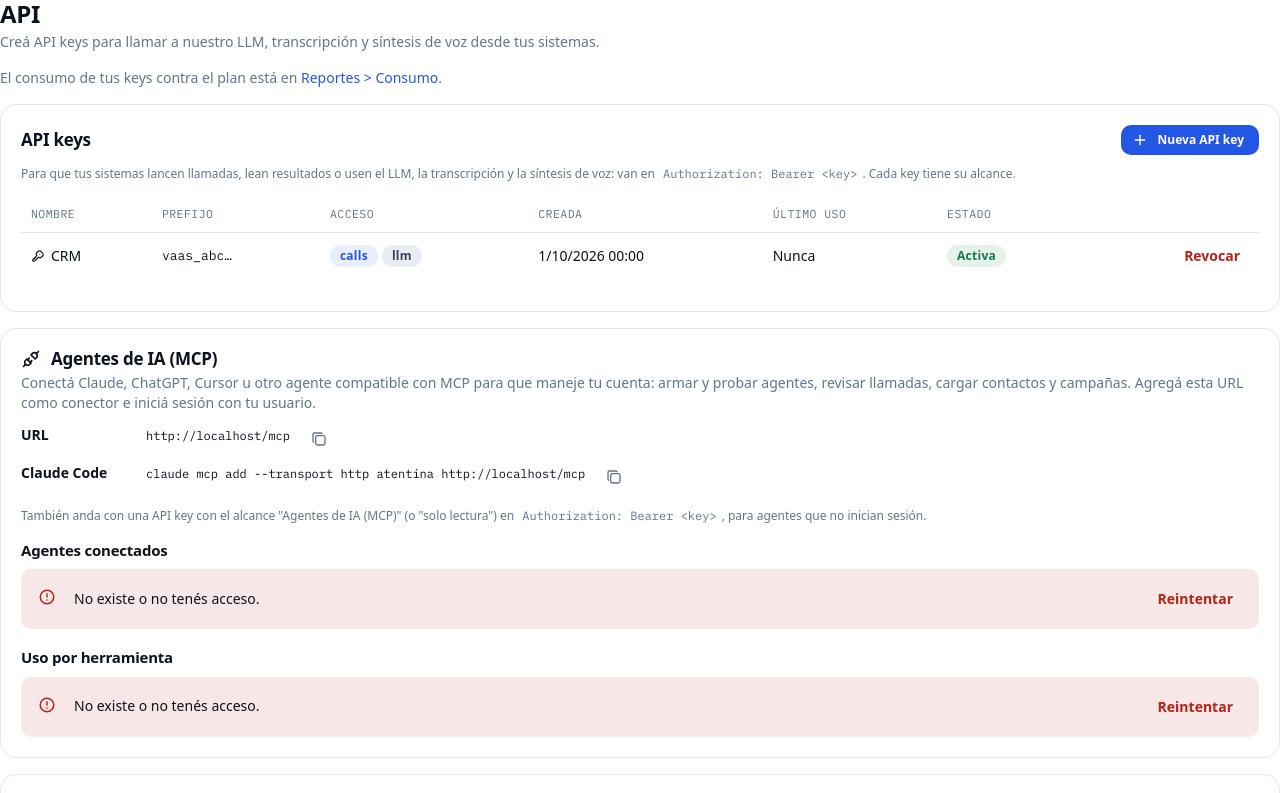
DevelopersPage › no deja crear una key sin ningún alcance
Step 1. Click the button "Nueva API key" → (1190, 140), box [1121, 125, 1259, 155]
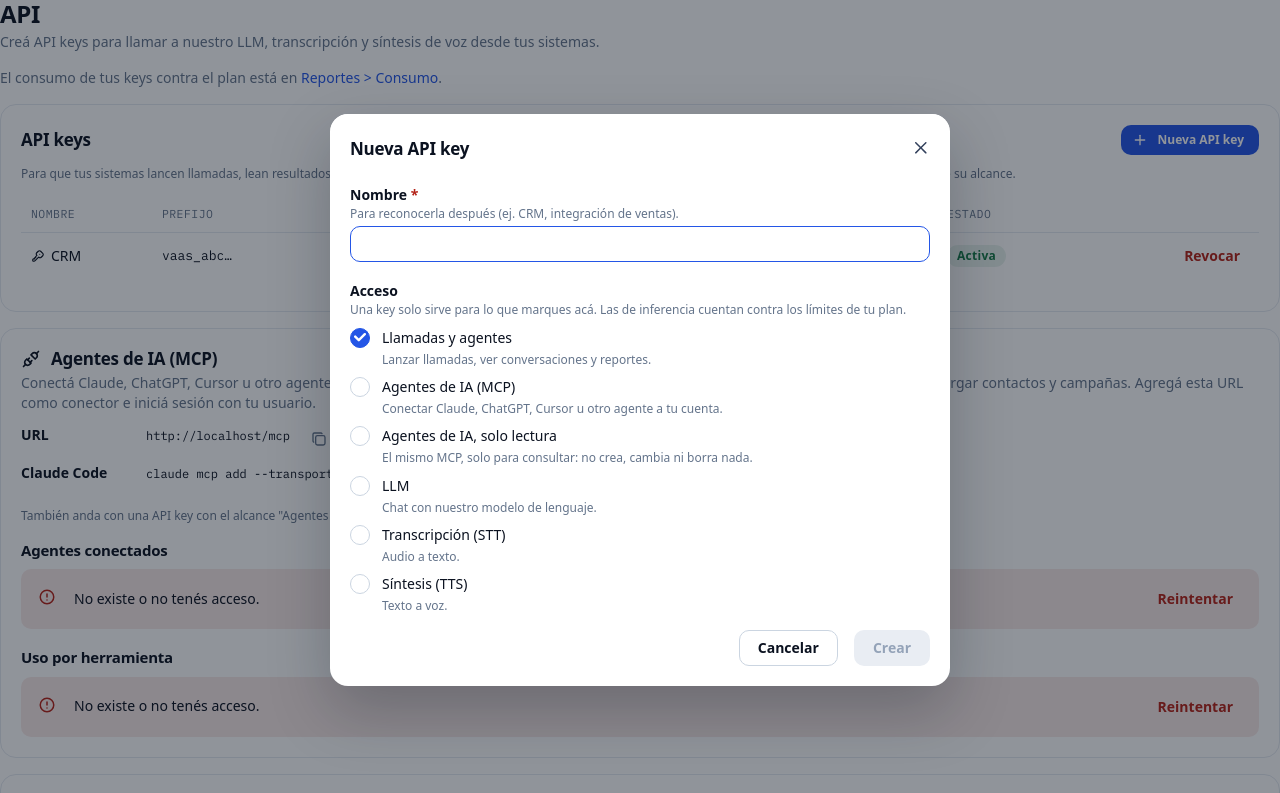
Step 2. Type "Nada" into the field labelled "Nombre *" → (640, 244), box [350, 226, 930, 262]
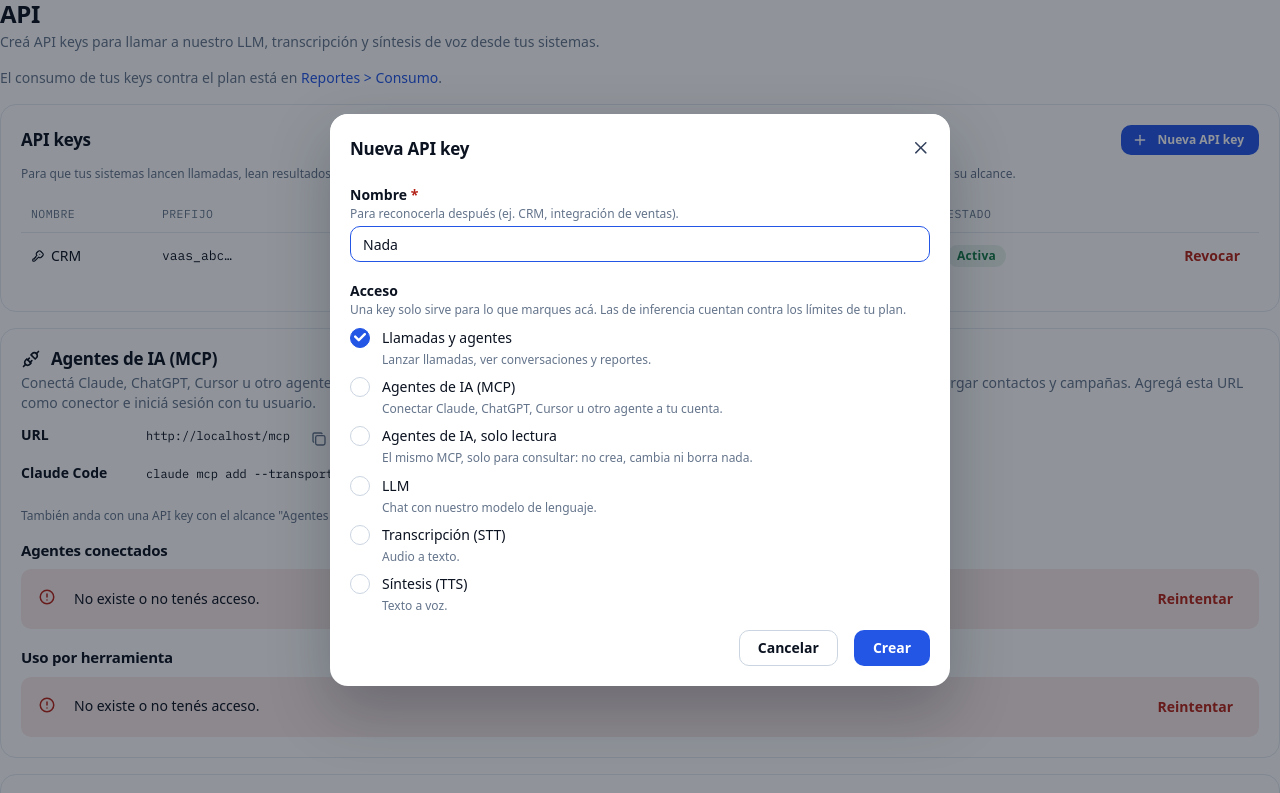
Step 3. Click the checkbox labelled "Llamadas y agentes" → (360, 338), box [350, 328, 370, 348]
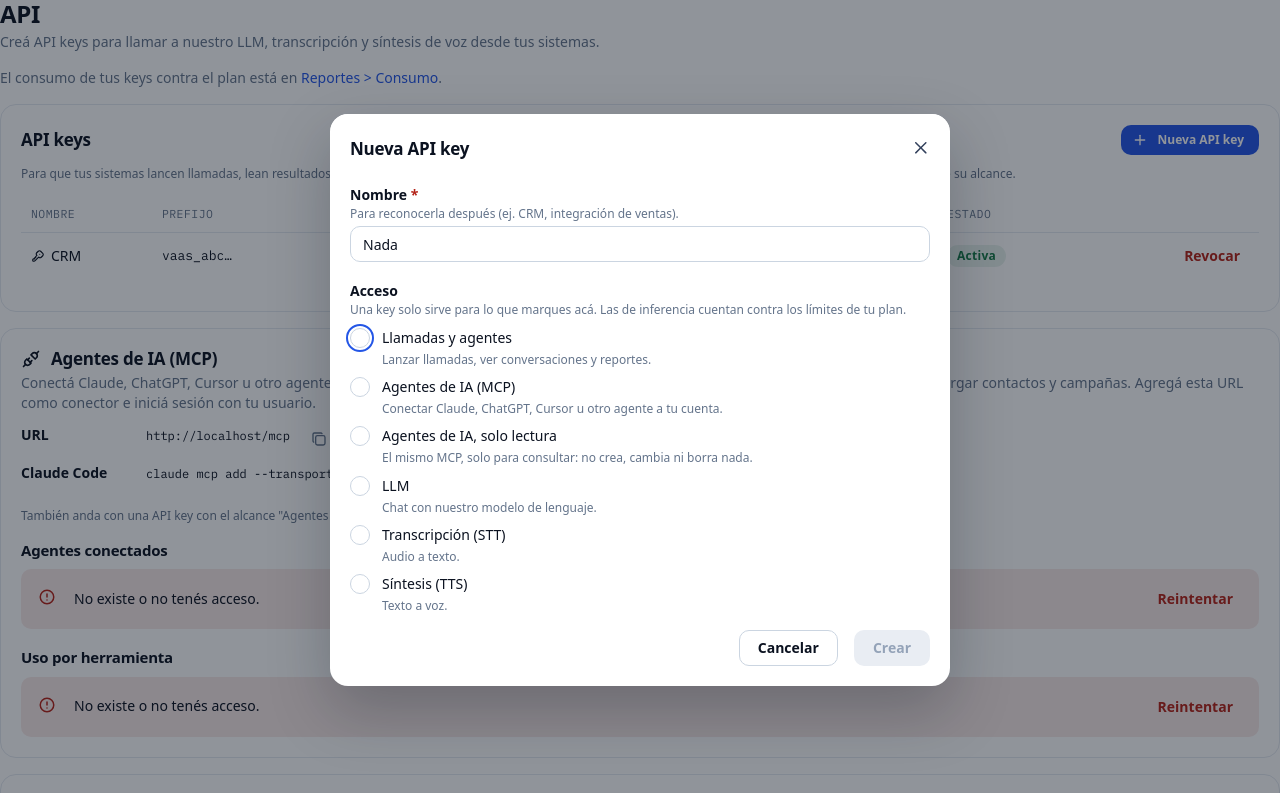
expect the button "Crear" is disabled: met, box [854, 630, 930, 666]
